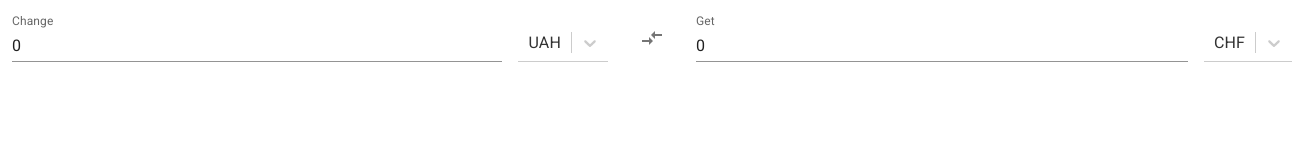
Test case: ExchangeConverter › properly swaps values
Replace the text in the field labelled "Change" with "10". click: (257, 46)
box: [12,30,502,62]
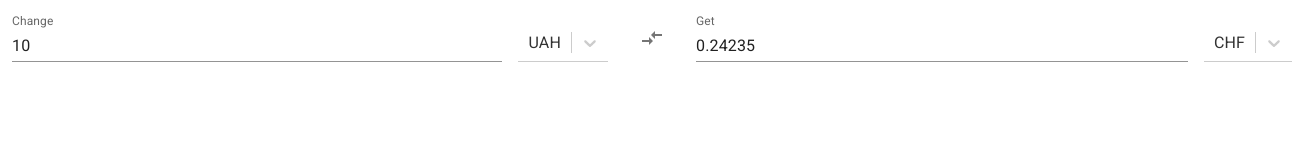
Click the button with test id "swap-button". click: (652, 38)
box: [632,18,672,58]
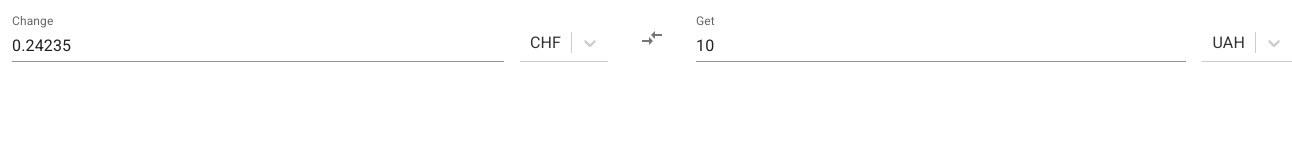
Expected: the field labelled "Get" holds "10", [696,30,1186,62]
